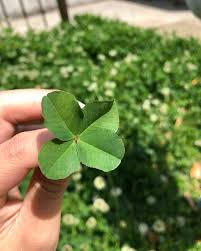4-clover: (38, 92, 125, 181)
